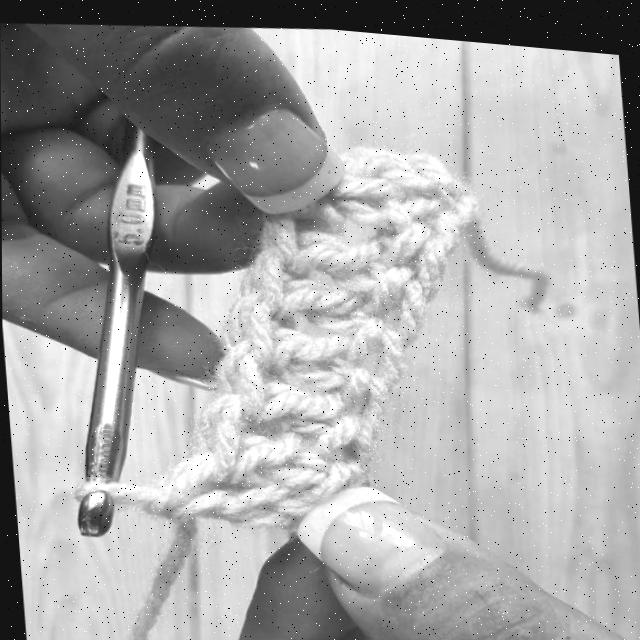ch: (359, 258, 421, 343), (396, 177, 471, 247), (380, 214, 444, 293), (339, 365, 386, 447), (349, 310, 400, 381)
dc: (198, 388, 365, 490), (216, 344, 358, 438), (224, 284, 352, 383), (236, 235, 368, 323), (149, 449, 305, 523), (266, 210, 381, 278)
